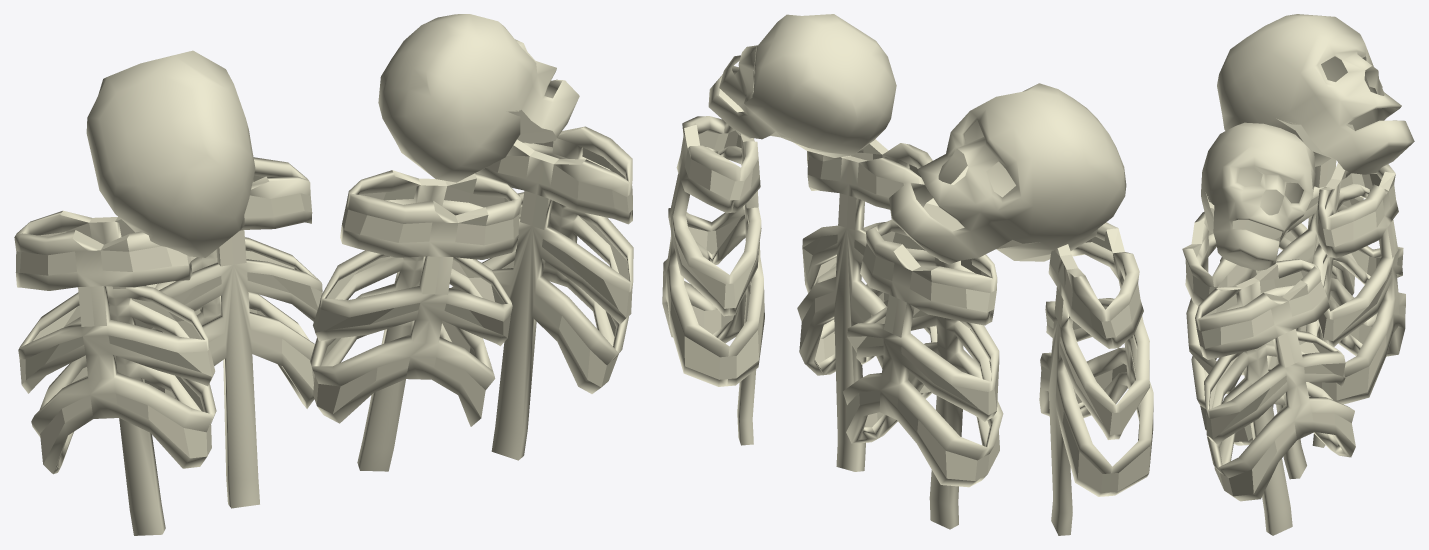
The model's file is wall_bones.fbx.
The picture shows the model from 3 angles, left to right: view 1: azimuth 30°, elevation 25°; view 2: azimuth 150°, elevation 25°; view 3: azimuth 270°, elevation 25°; orthographic projection. The views are drawn at different scales.
Parts seen in each view (by area): view 1: skelet_full.002; view 2: skelet_full.002; view 3: skelet_full.002.
Boxes of the visible parts, bbox=[...] form: skelet_full.002: bbox=[14, 14, 633, 535]; skelet_full.002: bbox=[662, 14, 1153, 535]; skelet_full.002: bbox=[1182, 14, 1414, 535].
Size of the model in its own units: 178 by 145 by 77.66.
